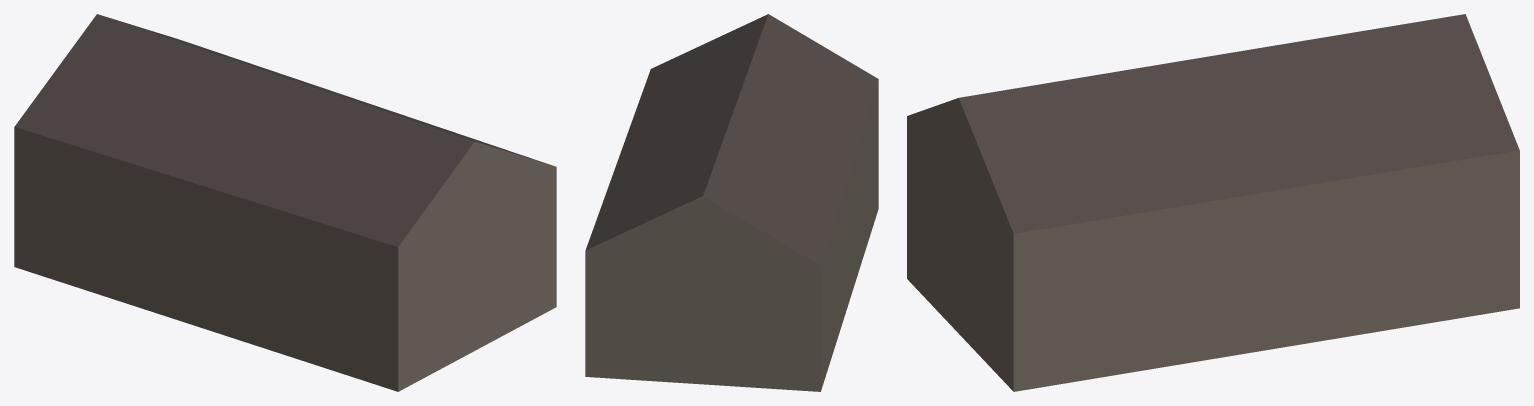
The picture shows the model from 3 angles, left to right: view 1: azimuth 30°, elevation 25°; view 2: azimuth 150°, elevation 25°; view 3: azimuth 270°, elevation 25°; orthographic projection. The views are drawn at different scales.
Visible parts, largest first — view 1: HP-w776800989; view 2: HP-w776800989; view 3: HP-w776800989.
Part boxes in pixels (x1,y1,x2,y2): HP-w776800989: [14, 14, 556, 391]; HP-w776800989: [585, 14, 878, 391]; HP-w776800989: [907, 14, 1519, 391].
Size of the model in its own units: 16.36 by 8.96 by 21.1.
